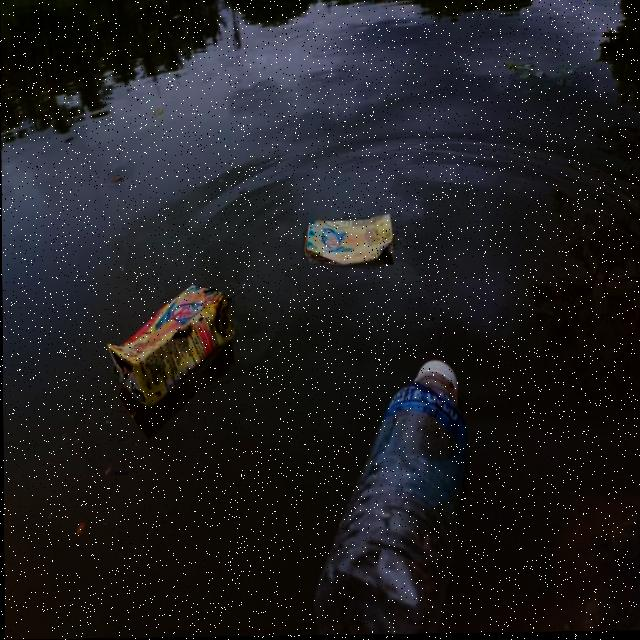paper: (68, 262, 247, 416), (303, 187, 417, 278)
waterbottle: (309, 334, 515, 636)
